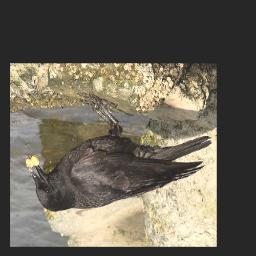Crow: (26, 93, 212, 213)
